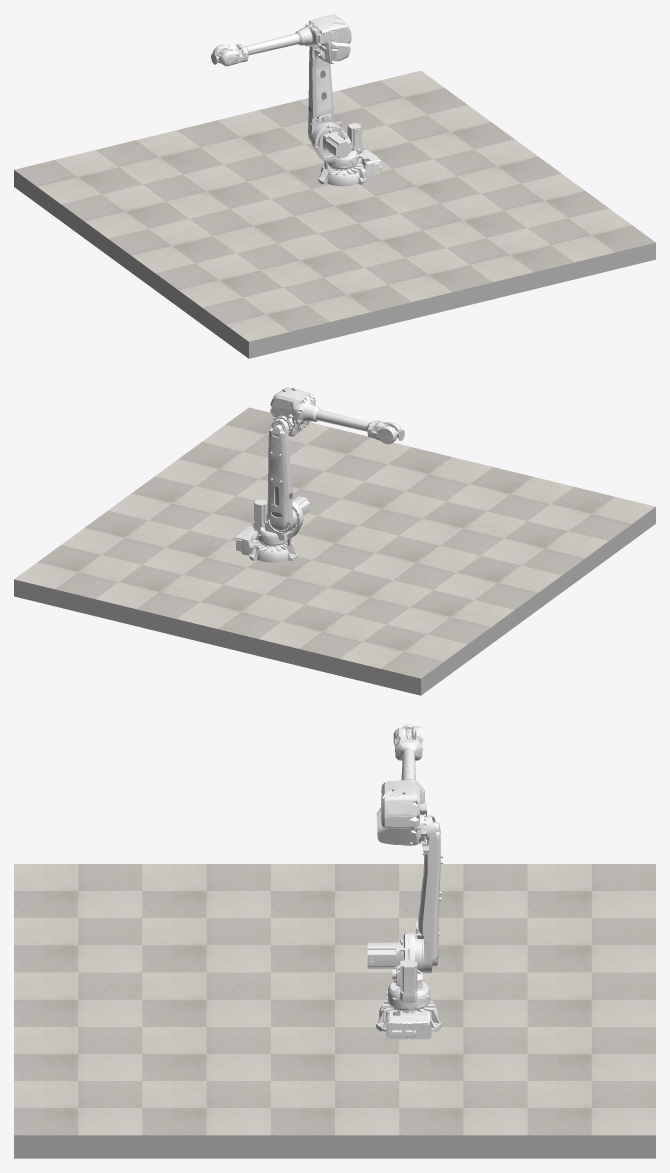
File: Celda_v1.gltf
3 renders of one model, top to bottom at view 1: azimuth 30°, elevation 25°; view 2: azimuth 150°, elevation 25°; view 3: azimuth 270°, elevation 25°, orthographic. The views are drawn at different scales.
Visible parts, largest first — view 1: visible, box0, IRB4600_link1_visible0, IRB4600_link3_visible, IRB4600_link2_visible0, IRB4600_visible0, IRB4600_link4_visible; view 2: visible, box0, IRB4600_link2_visible0, IRB4600_link3_visible, IRB4600_link1_visible0, IRB4600_visible0, IRB4600_link4_visible; view 3: visible, box0, IRB4600_link1_visible0, IRB4600_link3_visible, IRB4600_link2_visible0, IRB4600_visible0, IRB4600_link4_visible.
Part boxes in pixels (x1,y1,x2,y2): visible: (14, 70, 655, 341); box0: (14, 170, 655, 358); IRB4600_link1_visible0: (311, 121, 362, 170); IRB4600_link3_visible: (299, 14, 351, 63); IRB4600_link2_visible0: (308, 46, 333, 142); IRB4600_visible0: (318, 149, 381, 186); IRB4600_link4_visible: (212, 30, 305, 66); visible: (14, 407, 655, 678); box0: (14, 507, 655, 695); IRB4600_link2_visible0: (267, 418, 293, 533); IRB4600_link3_visible: (270, 387, 315, 436); IRB4600_link1_visible0: (253, 496, 309, 546); IRB4600_visible0: (234, 526, 297, 562); IRB4600_link4_visible: (310, 406, 401, 444); visible: (14, 864, 655, 1135); box0: (14, 1135, 655, 1158); IRB4600_link1_visible0: (367, 932, 430, 1012); IRB4600_link3_visible: (376, 780, 426, 845); IRB4600_link2_visible0: (416, 815, 442, 973); IRB4600_visible0: (376, 1000, 441, 1039); IRB4600_link4_visible: (393, 726, 422, 780).
Bounding box in the file's own units: 5 × 2.12 × 5.
15 materials, 1 textured.
